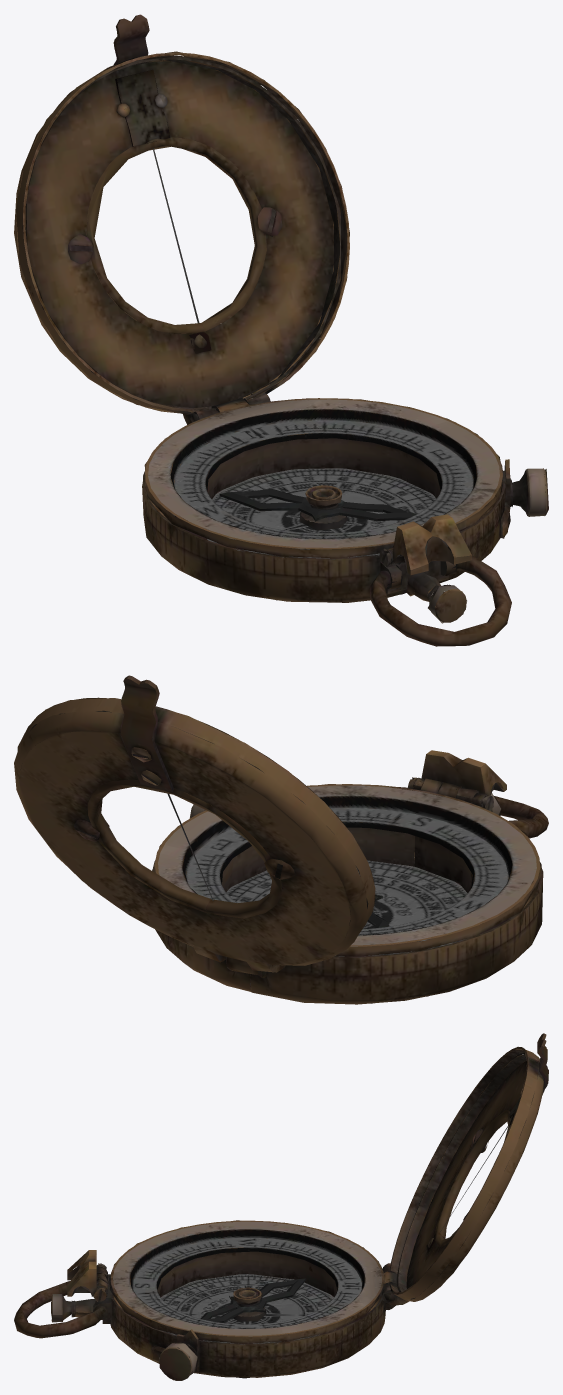
The model's file is seadogs_compass.glb.
3 renders of one model, top to bottom at view 1: azimuth 30°, elevation 25°; view 2: azimuth 150°, elevation 25°; view 3: azimuth 270°, elevation 25°, orthographic. The views are drawn at different scales.
Parts seen in each view (by area): view 1: seadogs_compass_lid, seadogs_compass, seadogs_compass_needle; view 2: seadogs_compass_lid, seadogs_compass; view 3: seadogs_compass, seadogs_compass_lid, seadogs_compass_needle.
Part boxes in pixels (bbox=[...]): seadogs_compass_lid: bbox=[14, 14, 349, 424]; seadogs_compass: bbox=[142, 398, 548, 646]; seadogs_compass_needle: bbox=[219, 489, 416, 521]; seadogs_compass_lid: bbox=[14, 675, 375, 972]; seadogs_compass: bbox=[152, 750, 548, 1004]; seadogs_compass: bbox=[14, 1220, 397, 1380]; seadogs_compass_lid: bbox=[382, 1033, 548, 1305]; seadogs_compass_needle: bbox=[200, 1278, 306, 1322].
Size of the model in its own units: 0.0814 by 0.0866 by 0.1444.
Materials: 1 (1 with a texture image).
